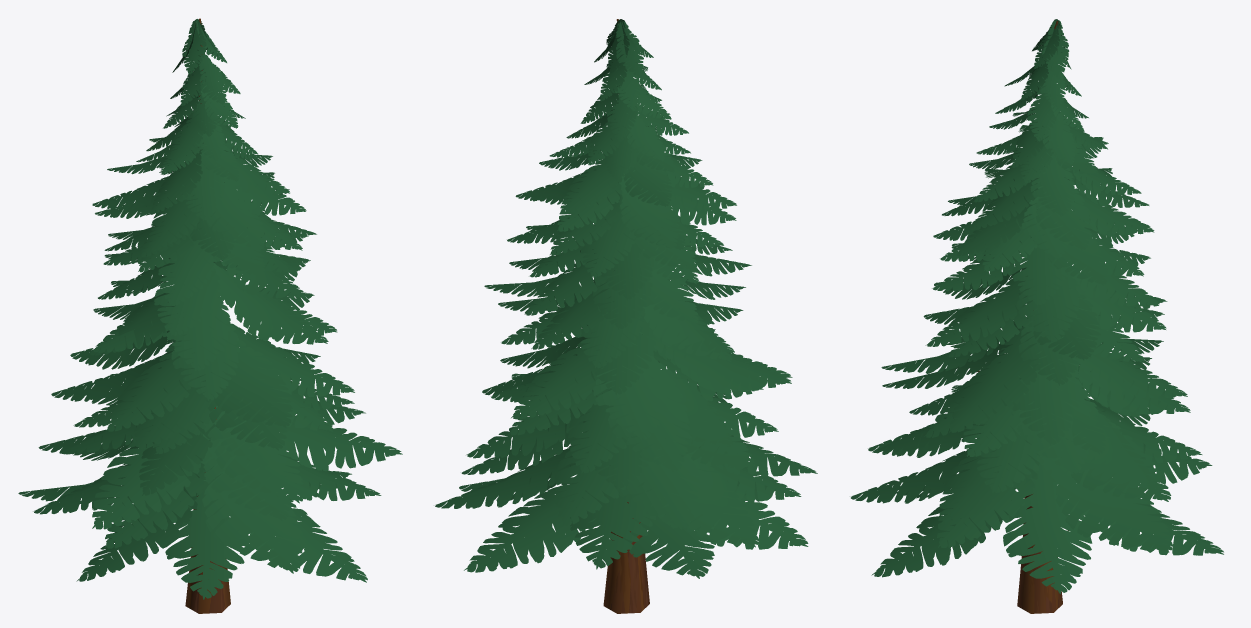
Rendered from pine_03.glb.
The picture shows the model from 3 angles, left to right: view 1: azimuth 30°, elevation 25°; view 2: azimuth 150°, elevation 25°; view 3: azimuth 270°, elevation 25°; orthographic projection. The views are drawn at different scales.
Parts seen in each view (by area): view 1: pine_03; view 2: pine_03; view 3: pine_03.
Boxes of the visible parts, x1,y1,x2,y2 form: pine_03: [18, 18, 402, 613]; pine_03: [435, 19, 817, 613]; pine_03: [851, 19, 1223, 613].
Size of the model in its own units: 7.54 by 12.87 by 7.74.
Materials: 2 (2 with a texture image).
